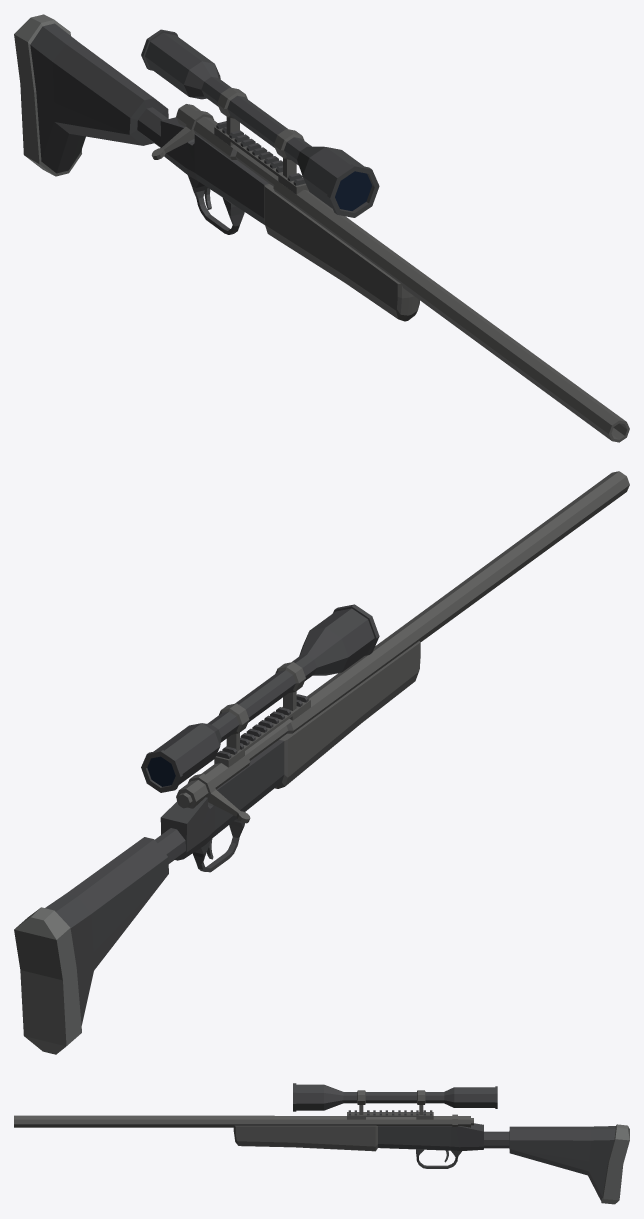
File: sniper_4.glb
3 renders of one model, top to bottom at view 1: azimuth 30°, elevation 25°; view 2: azimuth 150°, elevation 25°; view 3: azimuth 270°, elevation 25°, orthographic. The views are drawn at different scales.
Visible parts, largest first — view 1: sniper_4; view 2: sniper_4; view 3: sniper_4.
Part boxes in pixels (x1=…): sniper_4: x1=14, y1=14, x2=629, y2=442; sniper_4: x1=14, y1=471, x2=629, y2=1054; sniper_4: x1=14, y1=1083, x2=629, y2=1204.
Size of the model in its own units: 0.0743 by 0.2182 by 1.03.
